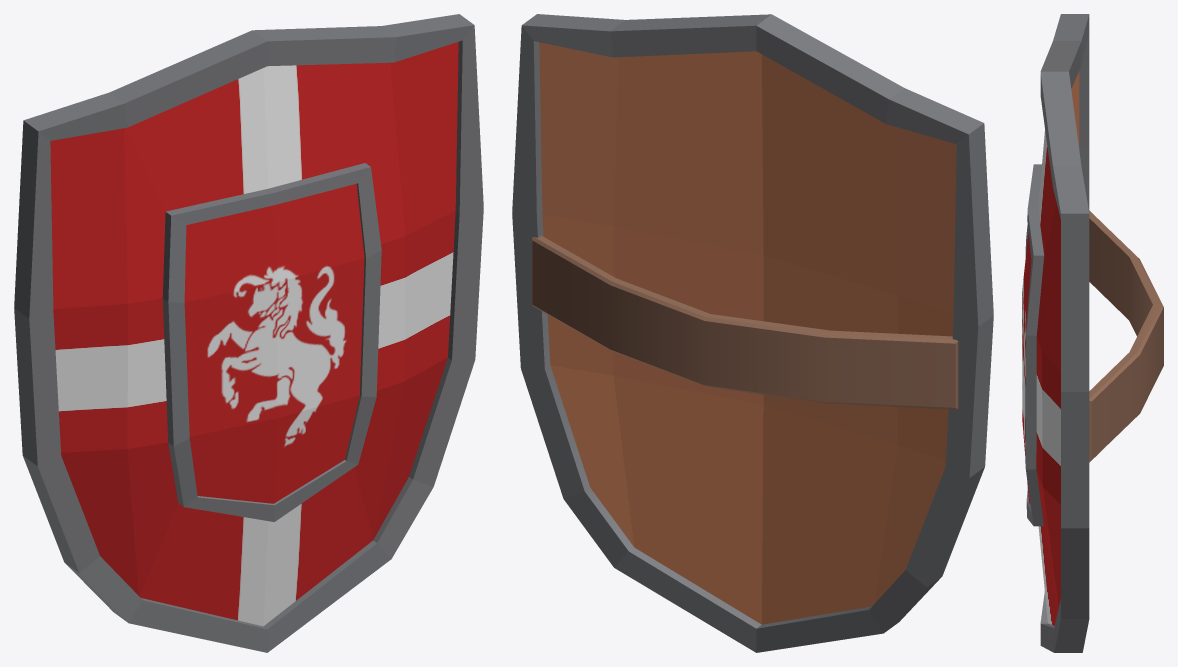
The model's file is medieval_shield.fbx.
3 views of the same model, side by side, from view 1: azimuth 30°, elevation 25°; view 2: azimuth 150°, elevation 25°; view 3: azimuth 270°, elevation 25° (orthographic). The views are drawn at different scales.
Visible parts, largest first — view 1: pCube6; view 2: pCube6; view 3: pCube6.
Part boxes in pixels (x1=…): pCube6: x1=14, y1=14, x2=483, y2=652; pCube6: x1=512, y1=14, x2=993, y2=652; pCube6: x1=1022, y1=14, x2=1163, y2=652.
Size of the model in its own units: 1.05 by 1.35 by 0.3019.
1 material, 1 textured.
